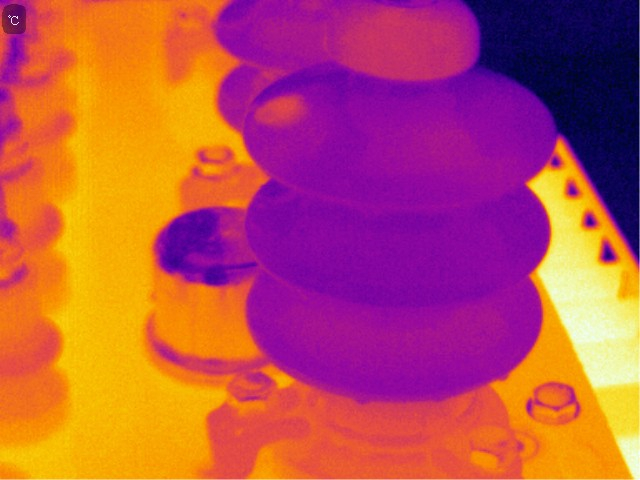Oil: (351, 98, 521, 191), (325, 2, 481, 81), (250, 93, 308, 129), (257, 185, 305, 211), (354, 390, 373, 408), (496, 369, 511, 384)
